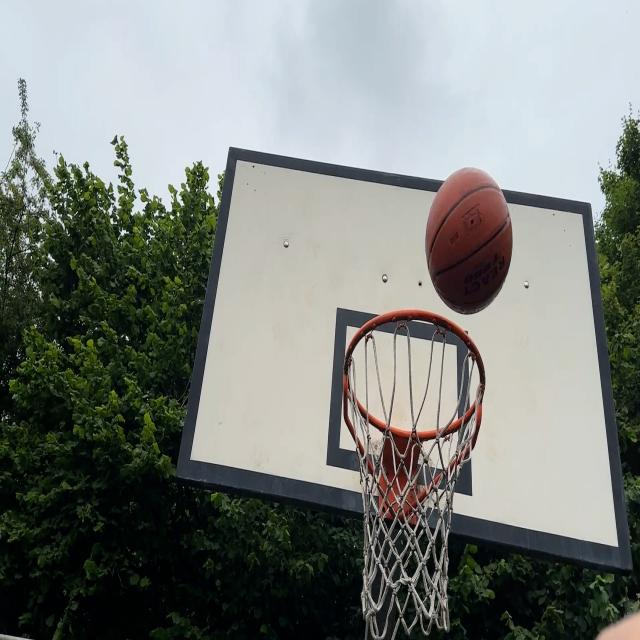Basketball: (428, 167, 516, 314)
